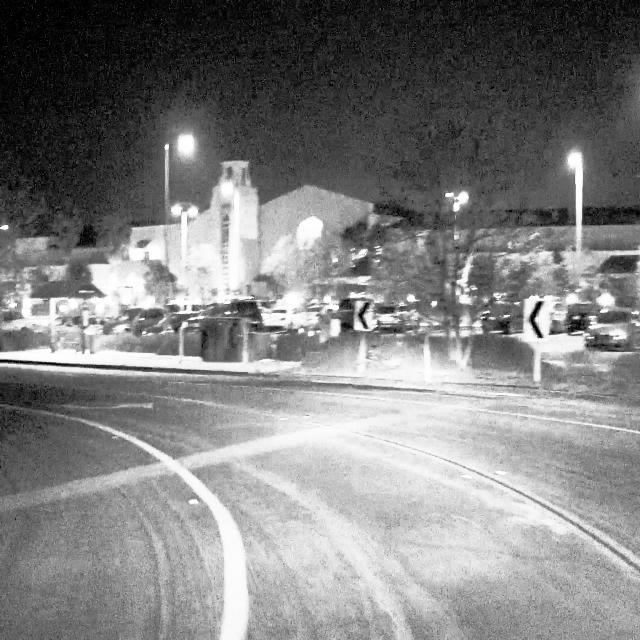Sign: (524, 298, 550, 342), (353, 300, 374, 331)
